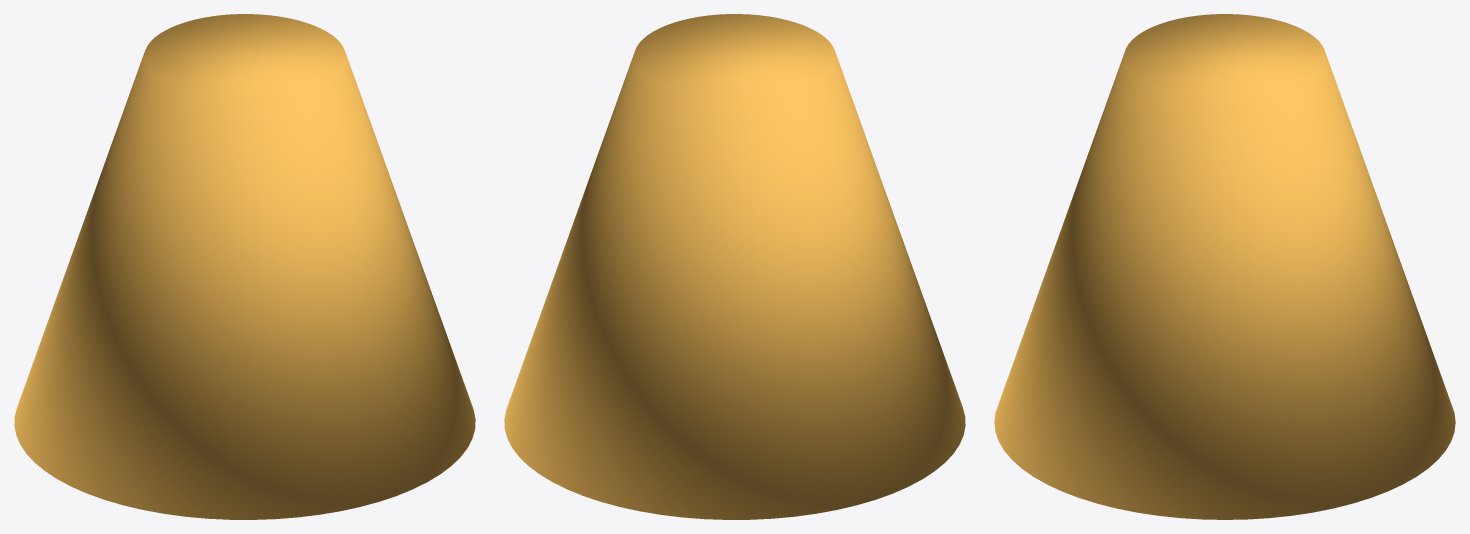
Rendered from conical-frustum-quality.glb.
The picture shows the model from 3 angles, left to right: view 1: azimuth 30°, elevation 25°; view 2: azimuth 150°, elevation 25°; view 3: azimuth 270°, elevation 25°; orthographic projection.
Visible parts, largest first — view 1: Frustum; view 2: Frustum; view 3: Frustum.
Part boxes in pixels (x1,y1,x2,y2): Frustum: [14, 14, 475, 519]; Frustum: [504, 14, 965, 519]; Frustum: [994, 14, 1455, 519].
Size of the model in its own units: 1.6 by 1.4 by 1.6.
